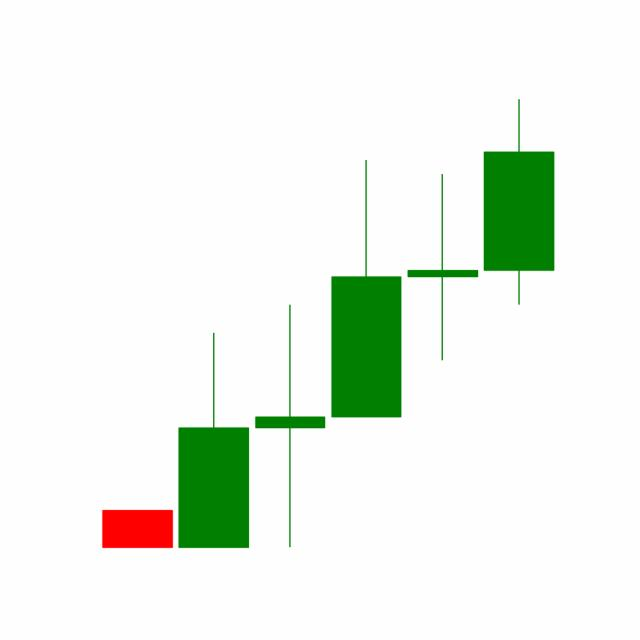Spinning Top: (403, 171, 481, 362)
